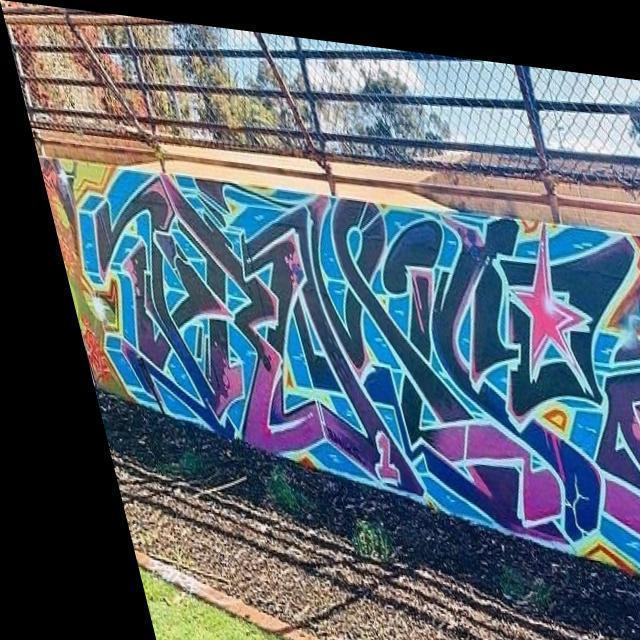nonspitting: (83, 168, 640, 574)
